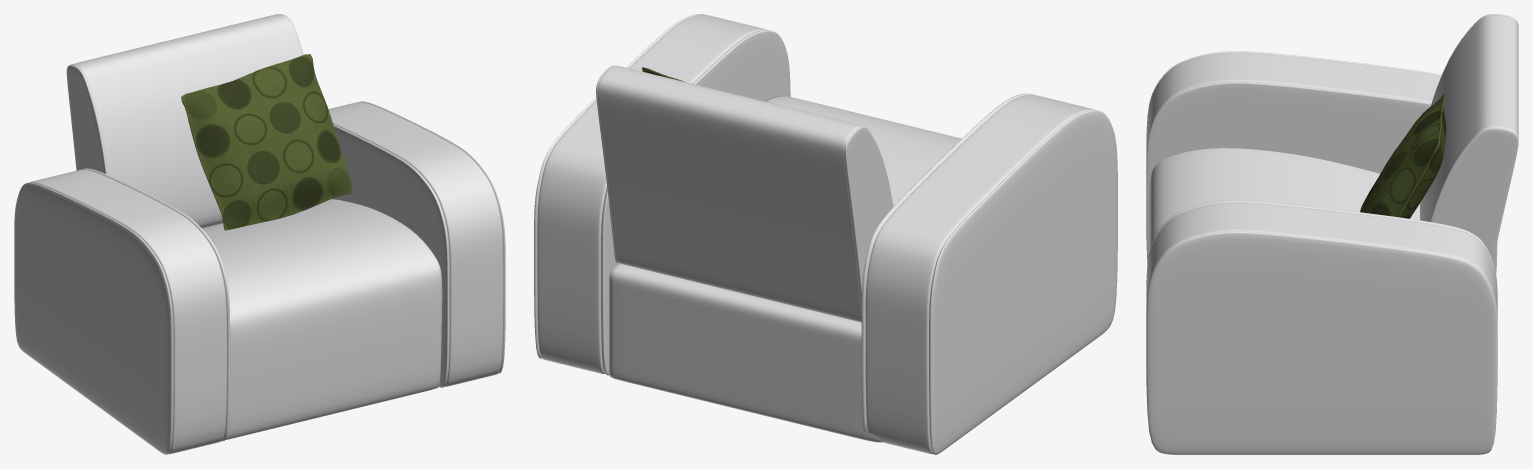
The model's file is armchair_leather.glb.
The picture shows the model from 3 angles, left to right: view 1: azimuth 30°, elevation 25°; view 2: azimuth 150°, elevation 25°; view 3: azimuth 270°, elevation 25°; orthographic projection. The views are drawn at different scales.
Parts seen in each view (by area): view 1: SofaLeather_0003, SofaLeather_0001, SofaLeather_0002, Cushion; view 2: SofaLeather_0003, SofaLeather_0002, SofaLeather_0001; view 3: SofaLeather_0003, SofaLeather_0002, SofaLeather_0001, Cushion.
Part boxes in pixels (left/top/right/bottom): SofaLeather_0003: left=14, top=101, right=505, bottom=454; SofaLeather_0001: left=202, top=199, right=442, bottom=440; SofaLeather_0002: left=66, top=14, right=303, bottom=228; Cushion: left=181, top=54, right=353, bottom=230; SofaLeather_0003: left=534, top=14, right=1117, bottom=454; SofaLeather_0002: left=596, top=65, right=893, bottom=322; SofaLeather_0001: left=609, top=96, right=961, bottom=442; SofaLeather_0003: left=1146, top=51, right=1497, bottom=454; SofaLeather_0002: left=1420, top=14, right=1518, bottom=261; SofaLeather_0001: left=1149, top=148, right=1493, bottom=262; Cushion: left=1360, top=93, right=1446, bottom=218.
Bounding box in the file's own units: 1.11 × 0.8364 × 0.9586.
2 materials, 2 textured.
